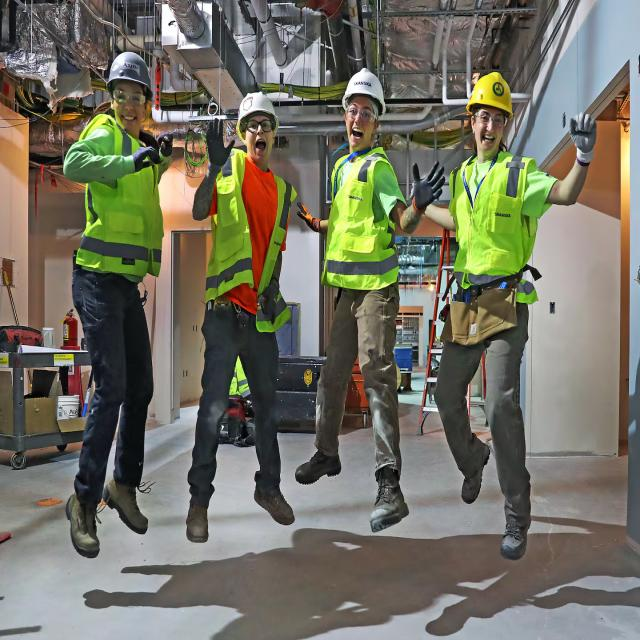Boots: (433, 431, 546, 572), (294, 438, 413, 540), (178, 477, 292, 556), (59, 472, 152, 562)
Gloves: (560, 103, 607, 182), (404, 154, 448, 216), (199, 117, 238, 179), (259, 276, 285, 329), (296, 194, 322, 240), (130, 137, 162, 171), (156, 131, 174, 163)
Hard Hat: (332, 60, 389, 114), (463, 65, 516, 121), (103, 44, 155, 96), (232, 83, 281, 135)
Reflective Vest: (70, 110, 168, 289), (203, 143, 294, 335), (446, 148, 544, 310), (321, 143, 403, 297)
Safety Glasses: (335, 99, 386, 128), (236, 117, 285, 140), (469, 107, 511, 131), (113, 85, 151, 106)
